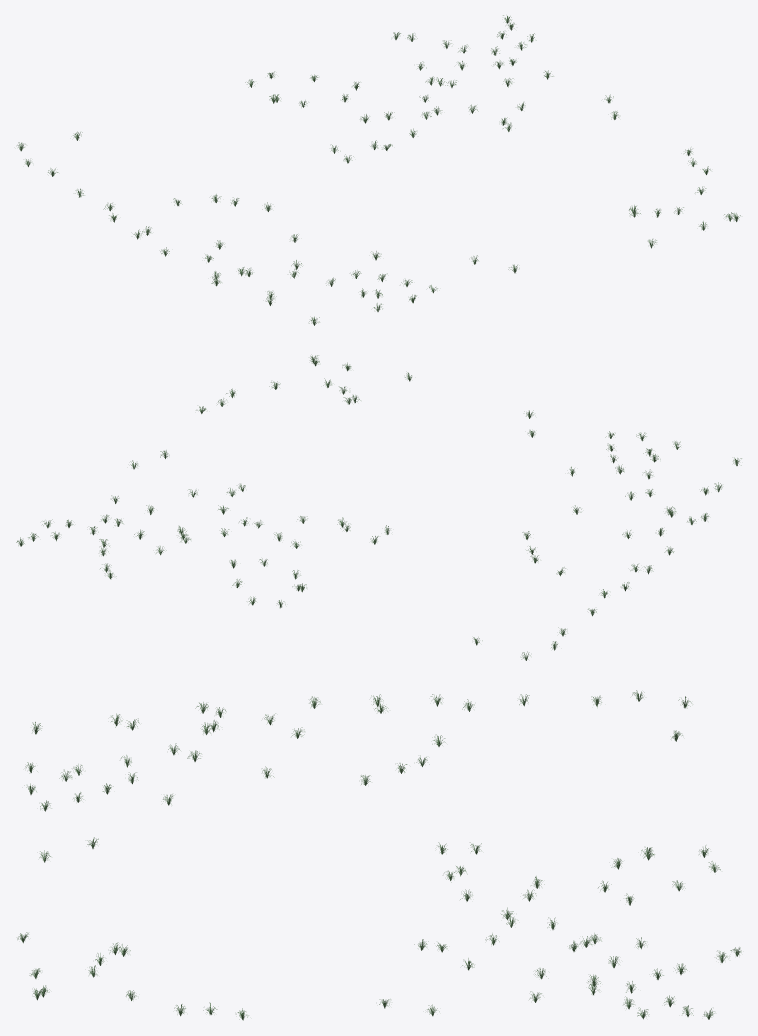
File: xiyuan-vegetation-38-near.glb
3 views of the same model, one above another, from view 1: azimuth 30°, elevation 25°; view 2: azimuth 150°, elevation 25°; view 3: azimuth 270°, elevation 25° (orthographic). The views are drawn at different scales.
Visible parts, largest first — view 1: mondo grass.003; view 2: mondo grass.003; view 3: mondo grass.003.
Boxes of the visible parts, x1,y1,x2,y2 form: mondo grass.003: (17, 15, 740, 325); mondo grass.003: (16, 355, 741, 660); mondo grass.003: (17, 690, 741, 1020).
Bounding box in the file's own units: 31.52 × 0.4752 × 29.81.
